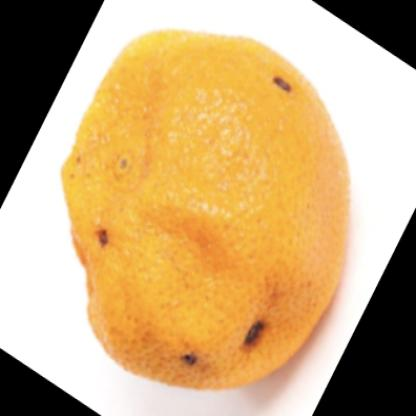rotten: (63, 27, 350, 390)
